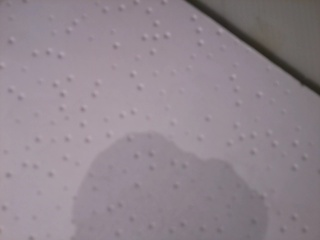Water_detected: (86, 146, 220, 240)
